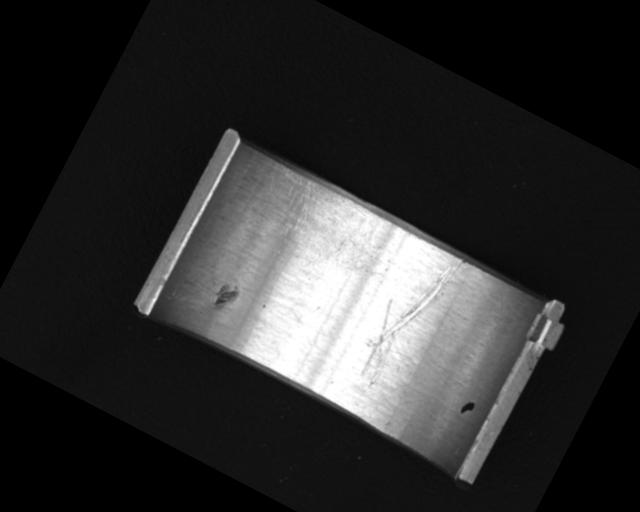blot: (456, 397, 478, 420)
bruise: (209, 279, 241, 314)
nick: (347, 237, 467, 401)
scratch: (245, 164, 385, 289)
